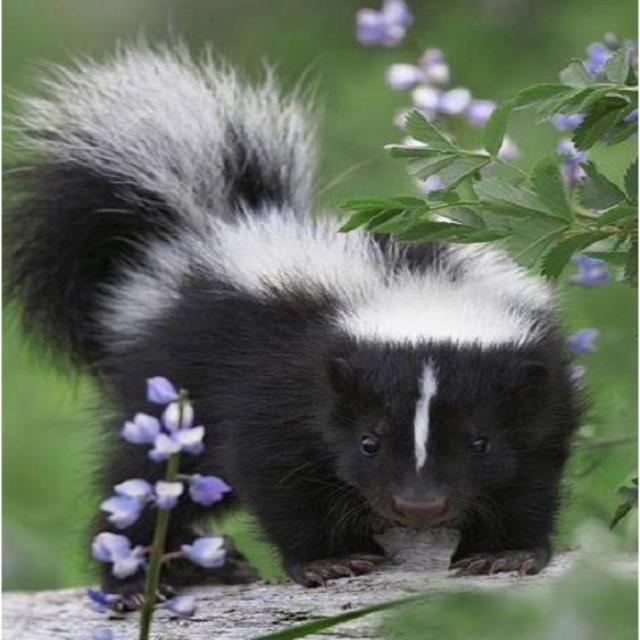Skunk: (0, 0, 612, 582)
